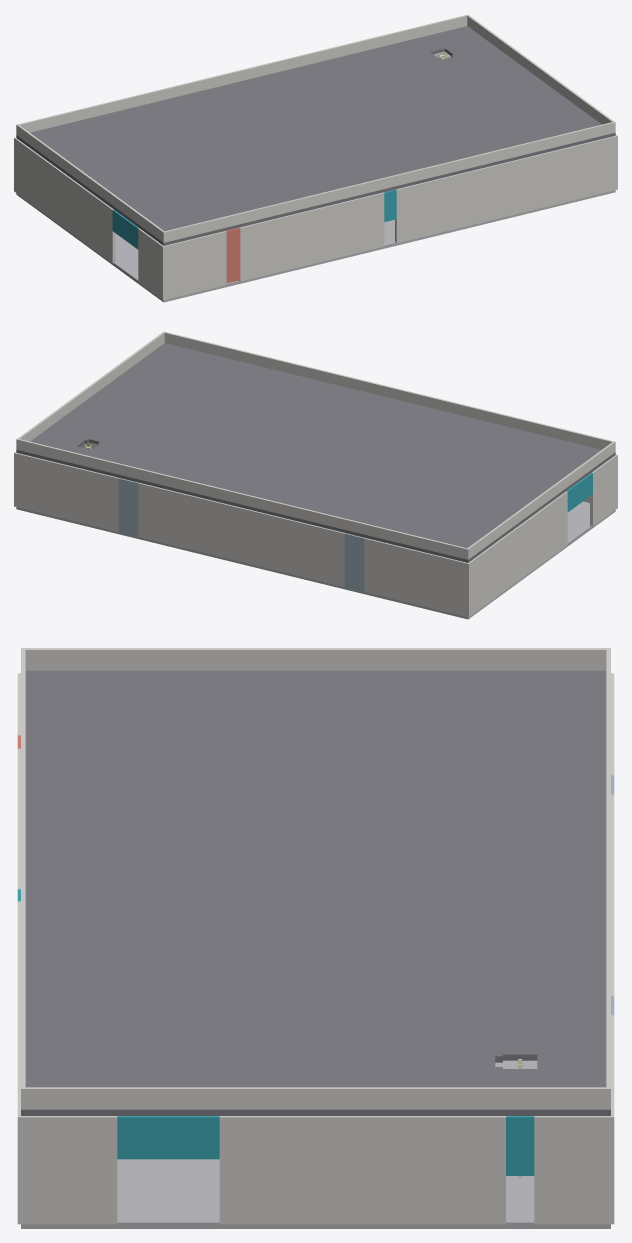
Rendered from depot_a01.glb.
3 renders of one model, top to bottom at view 1: azimuth 30°, elevation 25°; view 2: azimuth 150°, elevation 25°; view 3: azimuth 270°, elevation 25°, orthographic. The views are drawn at different scales.
Visible parts, largest first — view 1: ext_0_S_seg12, ext_0_S_seg1, ext_0_S_seg18, ext_0_S_seg6, ext_0_S_seg15, ext_0_S_seg21, slab_1_t1_2, slab_1_t1_3, slab_1_t3_4, slab_1_t4_7, slab_1_t1_6, slab_1_t1_8 (+103 smaller); view 2: ext_0_N_seg1, ext_0_N_seg4, ext_0_N_seg19, ext_0_N_seg8, ext_0_N_seg11, ext_0_N_seg14, slab_1_t1_7, slab_1_t2_4, slab_1_t4_2, slab_1_t4_3, slab_1_t1_1, slab_1_t1_2 (+105 smaller); view 3: slab_0_t1_9, ext_0_E_seg0, ext_0_E_seg5, ext_0_E_seg8, ext_0_E_seg10, ext_0_E_seg1, ext_0_E_seg3, ext_0_E_seg4, ext_0_E_seg6, ext_0_E_seg7, ext_0_E_open0_lintel, slab_1_t1_1 (+79 smaller).
Boxes of the visible parts, bbox=[...] form: ext_0_S_seg12: bbox=[395, 184, 416, 243]; ext_0_S_seg1: bbox=[185, 236, 205, 294]; ext_0_S_seg18: bbox=[514, 156, 534, 214]; ext_0_S_seg6: bbox=[279, 213, 299, 271]; ext_0_S_seg15: bbox=[455, 170, 475, 228]; ext_0_S_seg21: bbox=[573, 141, 593, 199]; slab_1_t1_2: bbox=[205, 174, 274, 202]; slab_1_t1_3: bbox=[250, 163, 319, 191]; slab_1_t3_4: bbox=[246, 116, 315, 144]; slab_1_t4_7: bbox=[357, 64, 426, 93]; slab_1_t1_6: bbox=[386, 130, 455, 158]; slab_1_t1_8: bbox=[476, 108, 545, 136]; ext_0_N_seg1: bbox=[426, 553, 446, 611]; ext_0_N_seg4: bbox=[367, 538, 387, 597]; ext_0_N_seg19: bbox=[59, 463, 79, 522]; ext_0_N_seg8: bbox=[285, 518, 305, 577]; ext_0_N_seg11: bbox=[226, 504, 246, 562]; ext_0_N_seg14: bbox=[167, 490, 187, 548]; slab_1_t1_7: bbox=[205, 381, 274, 410]; slab_1_t2_4: bbox=[316, 433, 385, 461]; slab_1_t4_2: bbox=[357, 491, 426, 519]; slab_1_t4_3: bbox=[312, 480, 381, 508]; slab_1_t1_1: bbox=[476, 448, 545, 476]; slab_1_t1_2: bbox=[431, 437, 499, 465]; slab_0_t1_9: bbox=[119, 1178, 217, 1228]; ext_0_E_seg0: bbox=[24, 1116, 69, 1224]; ext_0_E_seg5: bbox=[310, 1116, 355, 1224]; ext_0_E_seg8: bbox=[446, 1116, 491, 1224]; ext_0_E_seg10: bbox=[534, 1116, 579, 1224]; ext_0_E_seg1: bbox=[70, 1116, 115, 1224]; ext_0_E_seg3: bbox=[219, 1116, 264, 1224]; ext_0_E_seg4: bbox=[265, 1116, 310, 1224]; ext_0_E_seg6: bbox=[355, 1116, 400, 1224]; ext_0_E_seg7: bbox=[401, 1116, 446, 1224]; ext_0_E_open0_lintel: bbox=[117, 1116, 219, 1159]; slab_1_t1_1: bbox=[119, 712, 217, 756].
Size of what is drawn, in the model's own units: 46.3 by 6.8 by 26.3.
